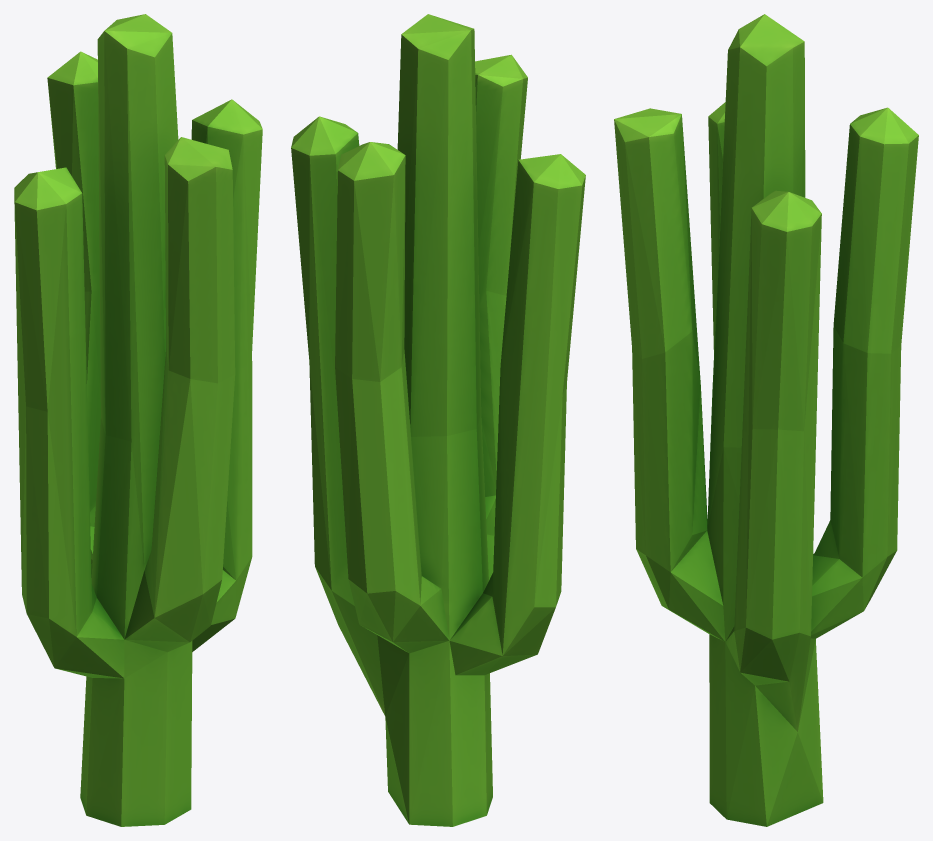
The model's file is Cactus_19.fbx.
3 views of the same model, side by side, from view 1: azimuth 30°, elevation 25°; view 2: azimuth 150°, elevation 25°; view 3: azimuth 270°, elevation 25° (orthographic).
Visible parts, largest first — view 1: Cactus_19; view 2: Cactus_19; view 3: Cactus_19.
Boxes of the visible parts, box(x1,y1,x2,y2) form: Cactus_19: box(14, 14, 262, 826); Cactus_19: box(291, 14, 585, 826); Cactus_19: box(614, 14, 918, 826).
Size of the model in its own units: 39.65 by 111 by 39.67.
